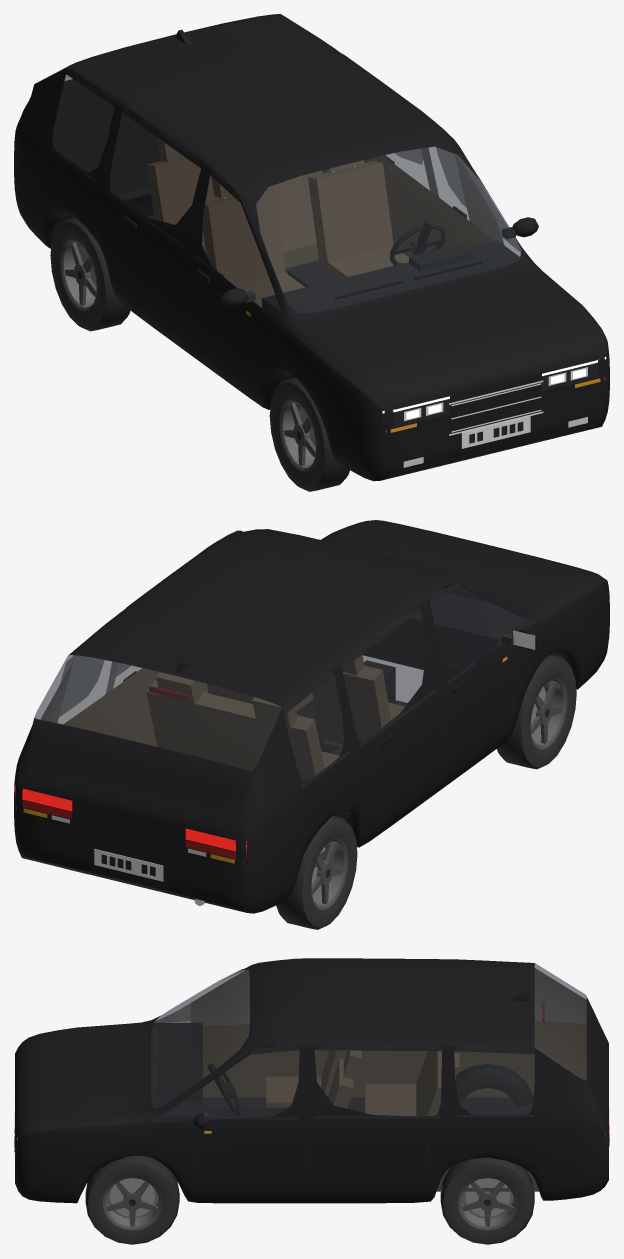
File: suv_black.glb
3 views of the same model, one above another, from view 1: azimuth 30°, elevation 25°; view 2: azimuth 150°, elevation 25°; view 3: azimuth 270°, elevation 25° (orthographic). The views are drawn at different scales.
Parts seen in each view (by area): view 1: suv_black_body, Wheel_RR, Wheel_FR; view 2: suv_black_body, Wheel_FR, Wheel_RR; view 3: suv_black_body, Wheel_FL, Wheel_RL, Wheel_RR.
Part boxes in pixels (x1,y1,x2,y2): suv_black_body: [14, 14, 609, 481]; Wheel_RR: [50, 217, 130, 331]; Wheel_FR: [269, 377, 349, 491]; suv_black_body: [14, 520, 609, 913]; Wheel_FR: [497, 655, 576, 769]; Wheel_RR: [276, 816, 357, 929]; suv_black_body: [14, 958, 609, 1203]; Wheel_FL: [85, 1155, 179, 1244]; Wheel_RL: [440, 1157, 534, 1244]; Wheel_RR: [455, 1064, 533, 1106].
Size of the model in its own units: 0.1198 by 0.0903 by 0.2408.
Materials: 8 (1 with a texture image).
